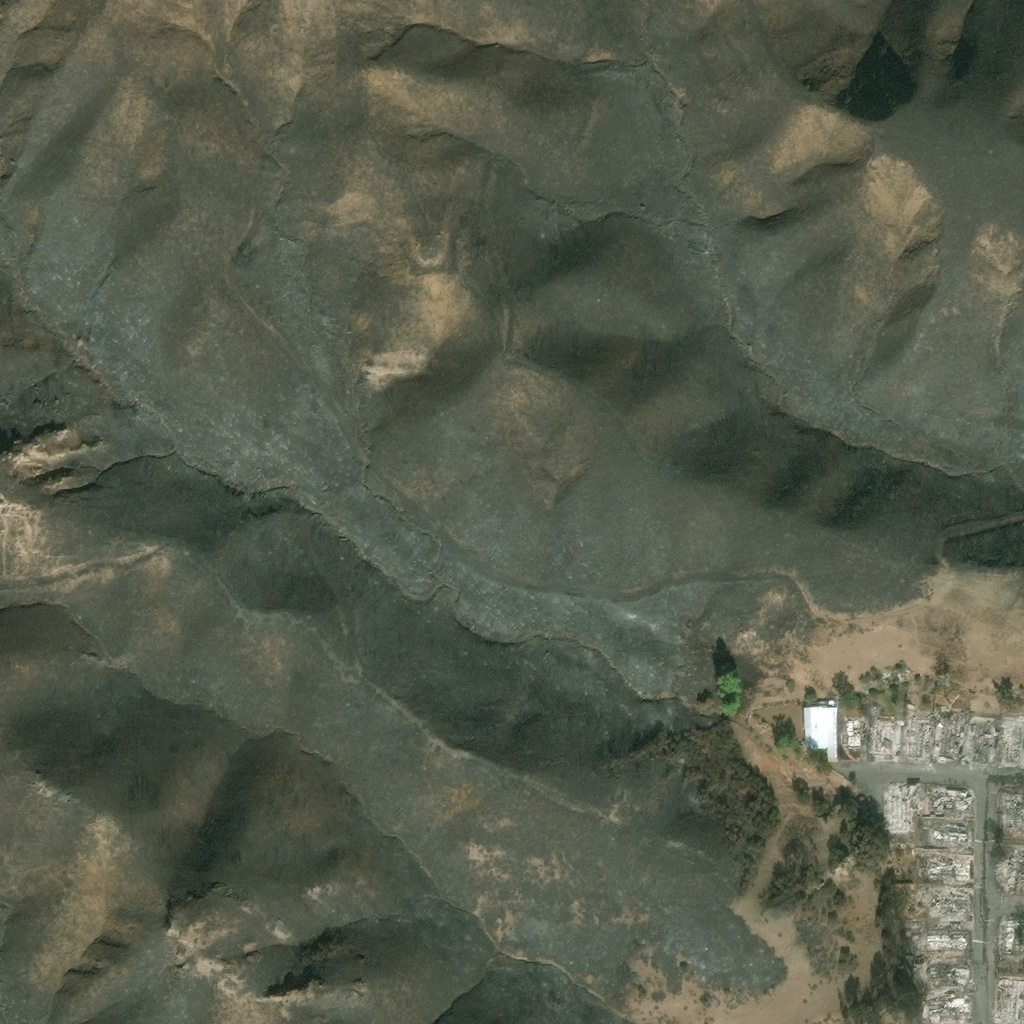0 no-damage: (804, 695, 841, 763)
3 destroyed: (932, 708, 969, 762), (965, 719, 1001, 765), (889, 784, 923, 831), (927, 855, 976, 885), (928, 990, 972, 1023), (925, 920, 970, 952), (926, 788, 973, 818), (926, 957, 971, 988), (927, 886, 970, 918), (902, 716, 935, 757), (932, 820, 973, 850), (1000, 976, 1023, 1023), (998, 724, 1023, 765), (874, 719, 901, 756), (999, 917, 1023, 957), (1002, 854, 1023, 895), (1005, 789, 1023, 835), (842, 720, 868, 749), (905, 703, 929, 716), (911, 917, 926, 932), (871, 705, 880, 714), (924, 821, 929, 829)
